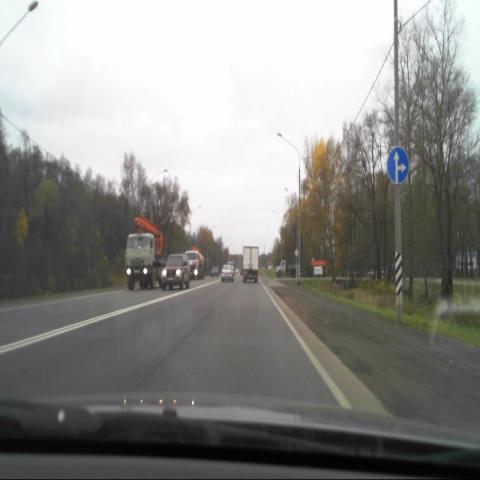4_1_4: (387, 147, 410, 185)
